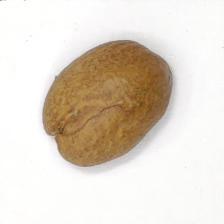NG: (41, 102, 122, 154)
